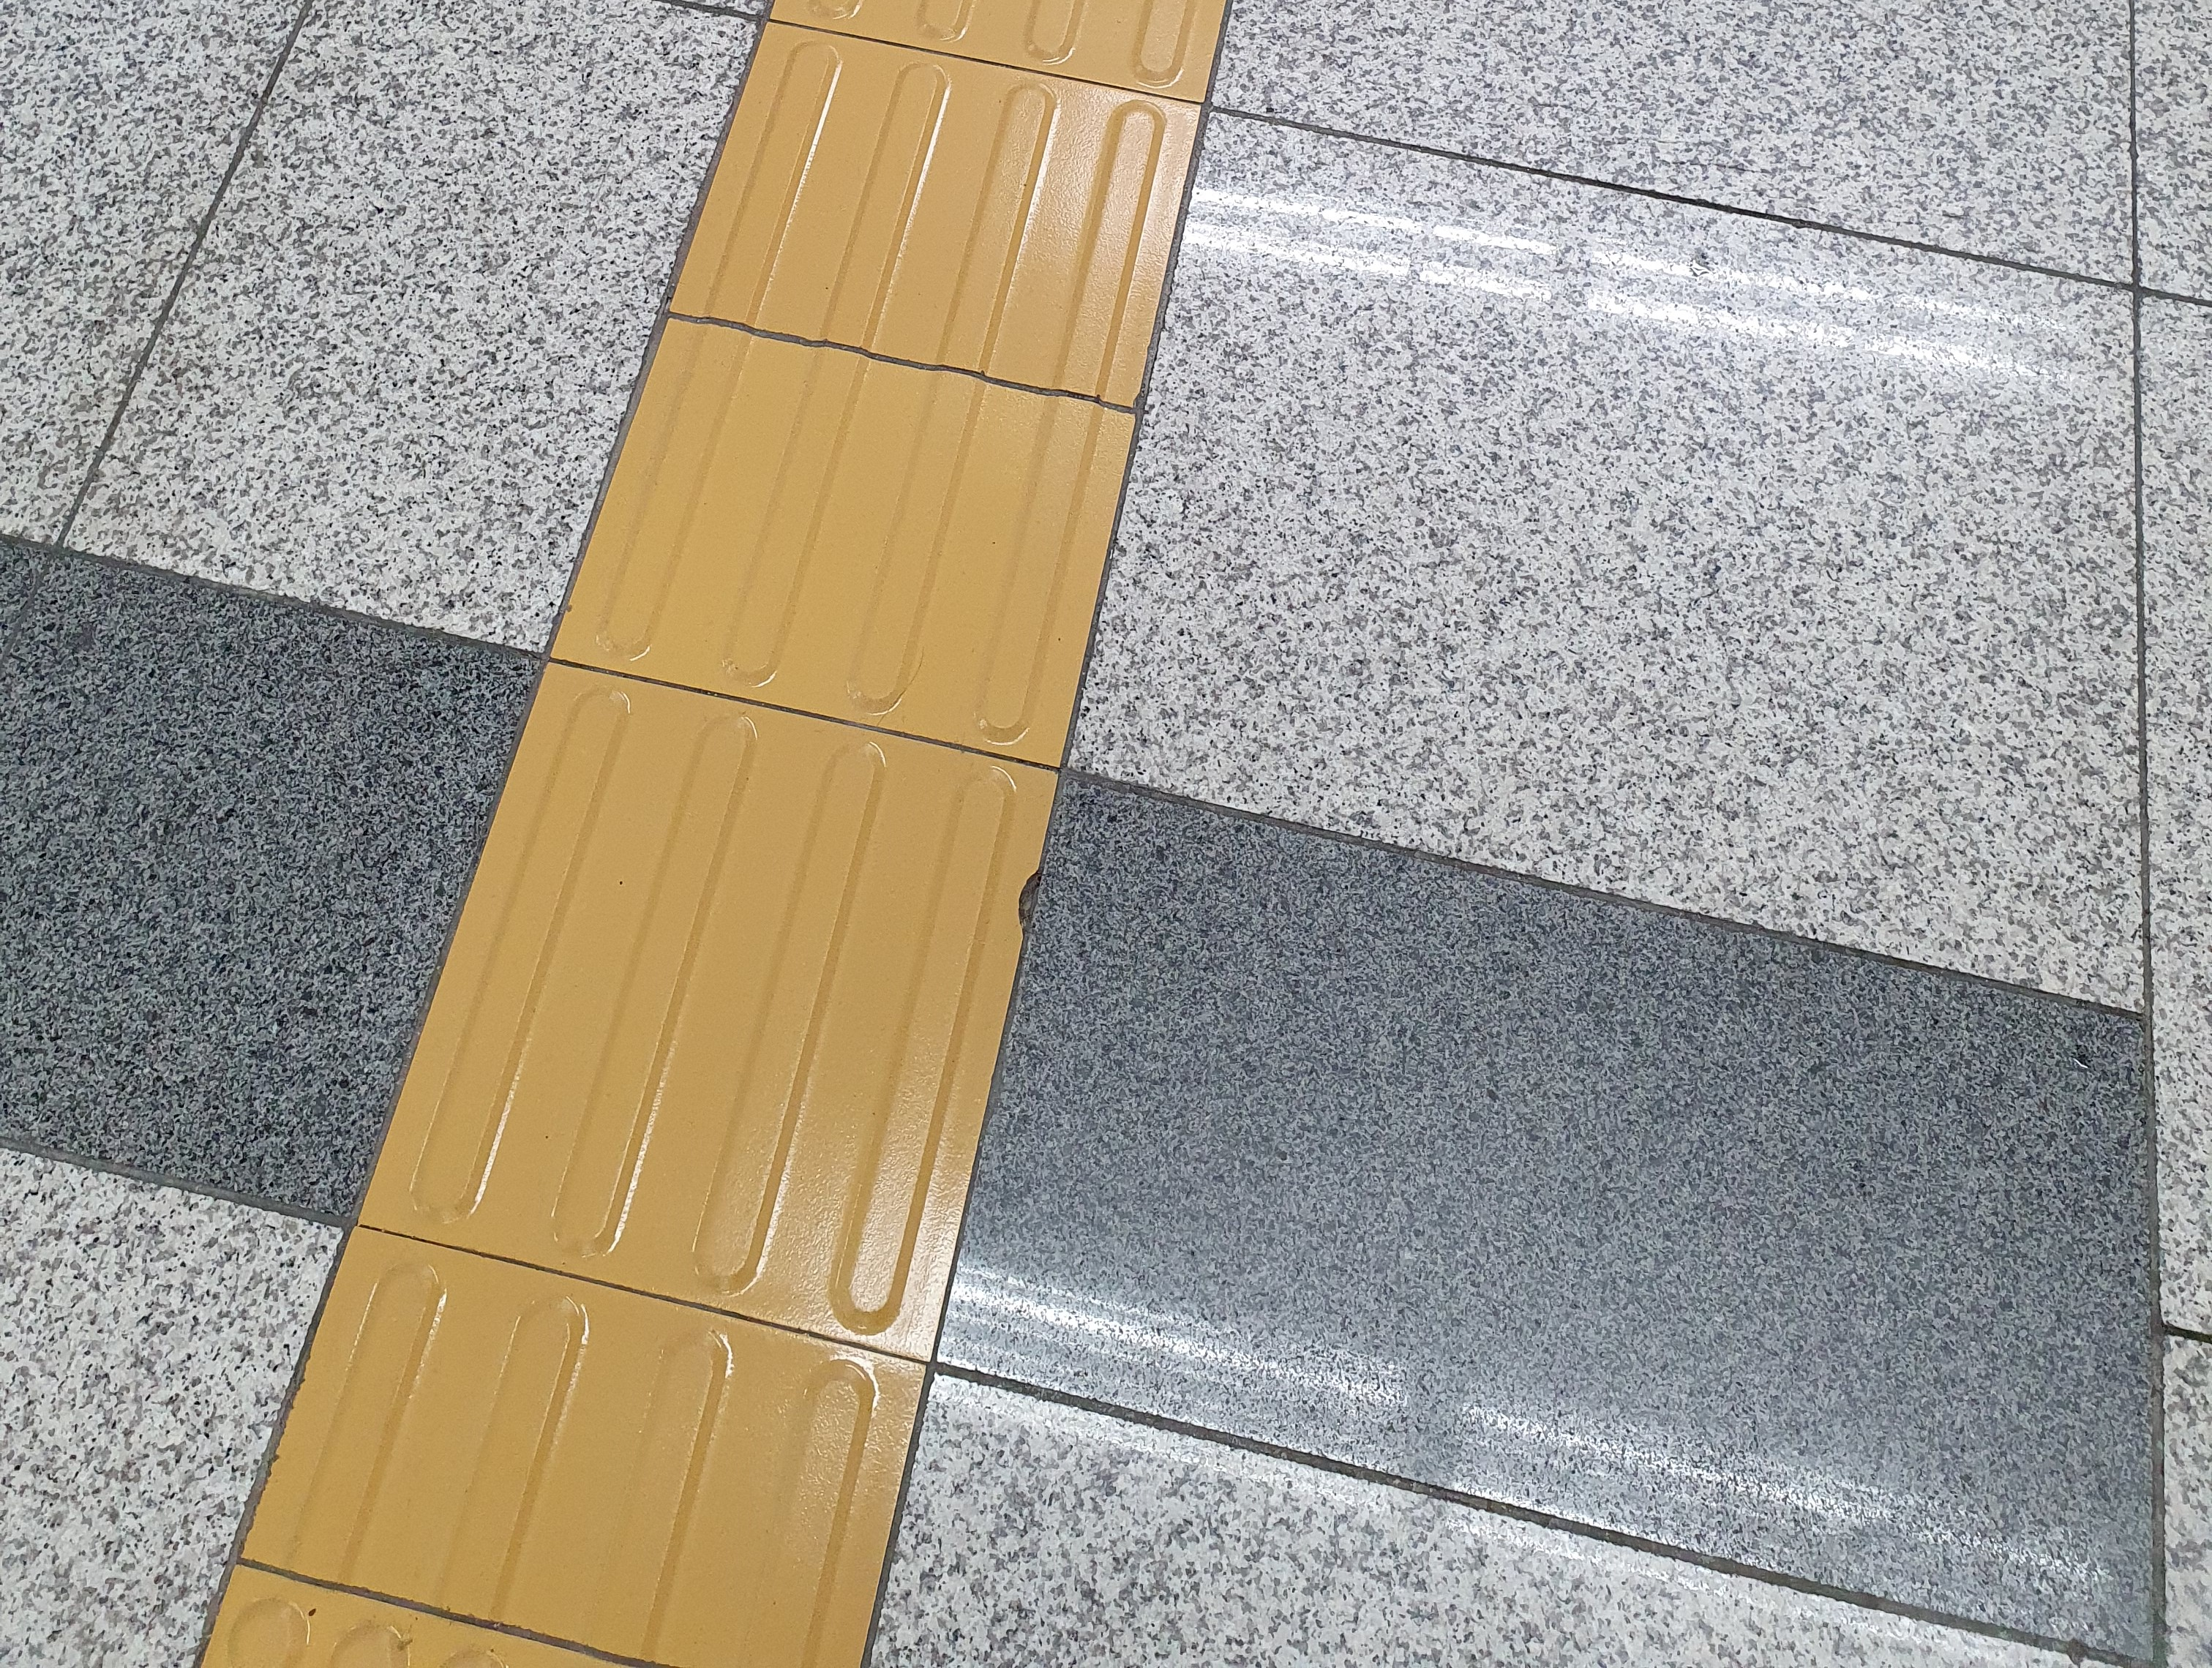guideBlock: (501, 694, 950, 1316), (324, 1226, 866, 1649), (638, 326, 1080, 718), (748, 53, 1159, 368)
